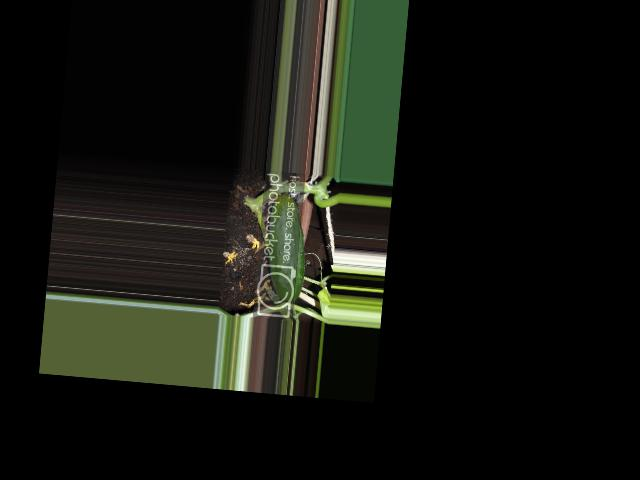cucumber: (262, 193, 310, 302)
